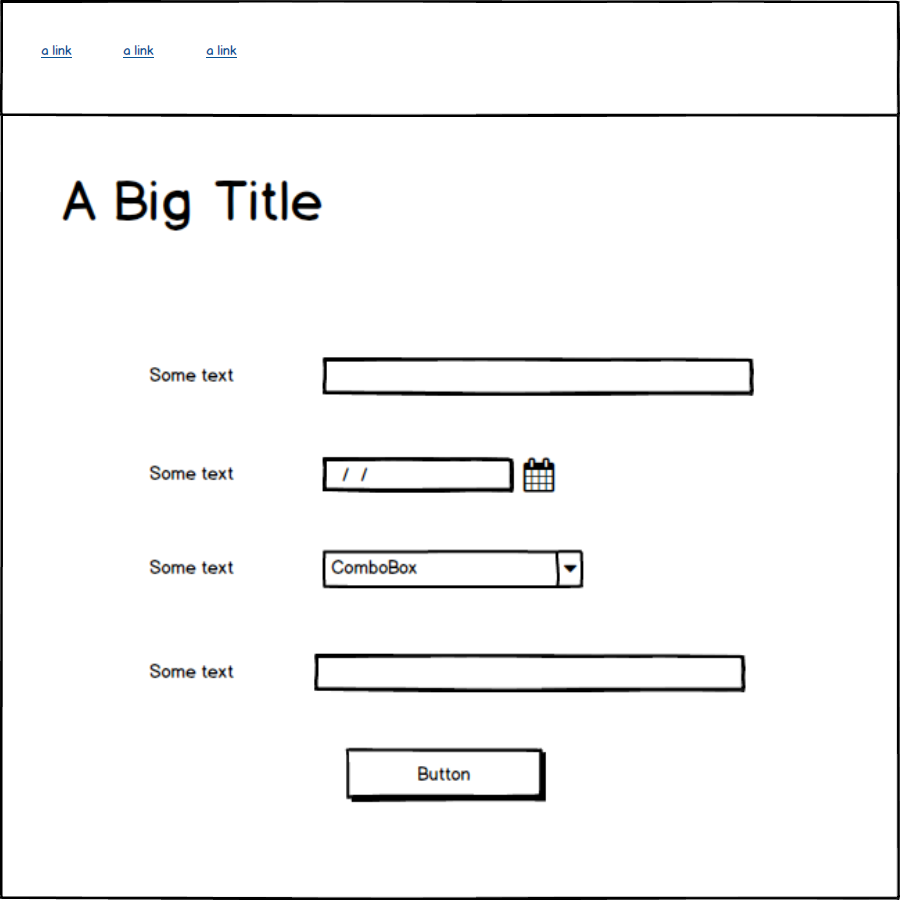button: (341, 744, 552, 806)
date_picker: (316, 451, 561, 500)
h1: (55, 169, 327, 234)
input: (320, 351, 759, 399), (313, 648, 750, 693)
label: (139, 447, 246, 493), (144, 547, 248, 585), (145, 354, 244, 391), (148, 655, 252, 685)
navlink: (204, 36, 242, 66), (33, 40, 76, 64), (115, 40, 159, 62)
select_box: (319, 547, 590, 595)
